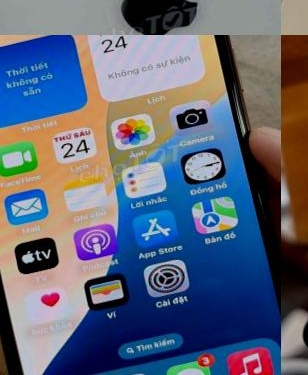scratch: (281, 91, 308, 375)
